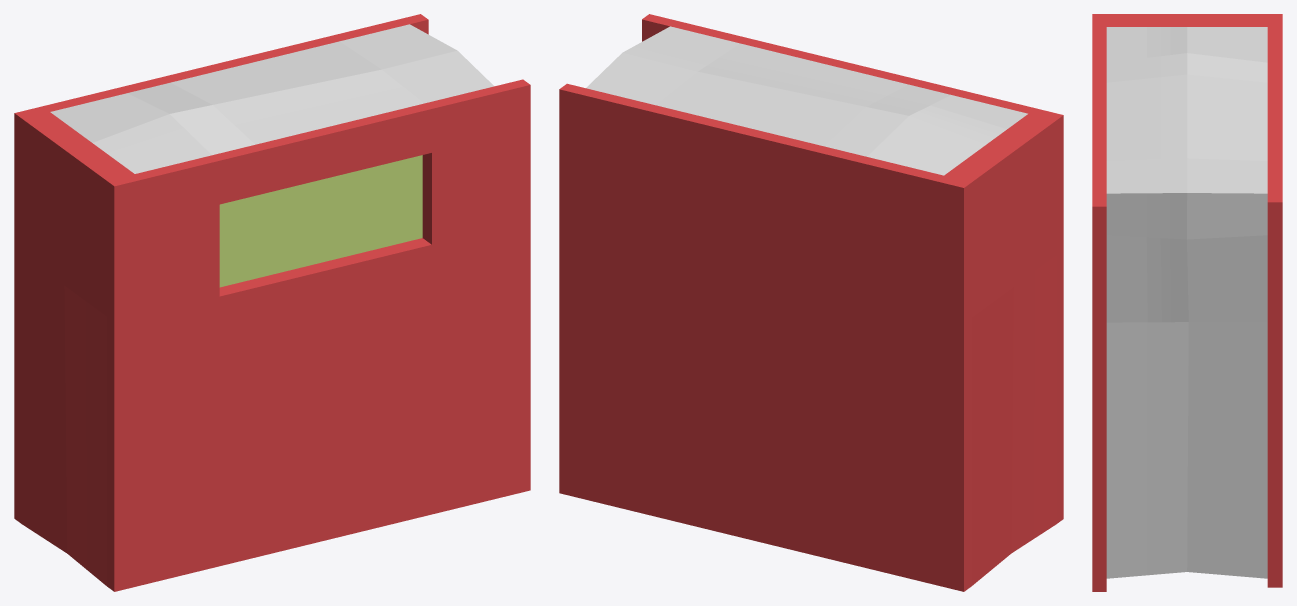
File: book.fbx
The picture shows the model from 3 angles, left to right: view 1: azimuth 30°, elevation 25°; view 2: azimuth 150°, elevation 25°; view 3: azimuth 270°, elevation 25°; orthographic projection. The views are drawn at different scales.
Parts seen in each view (by area): view 1: Cube; view 2: Cube; view 3: Cube.
Boxes of the visible parts, x1,y1,x2,y2 form: Cube: [14, 14, 530, 591]; Cube: [559, 14, 1063, 591]; Cube: [1092, 14, 1282, 591].
Bounding box in the file's own units: 502 × 479 × 209.
